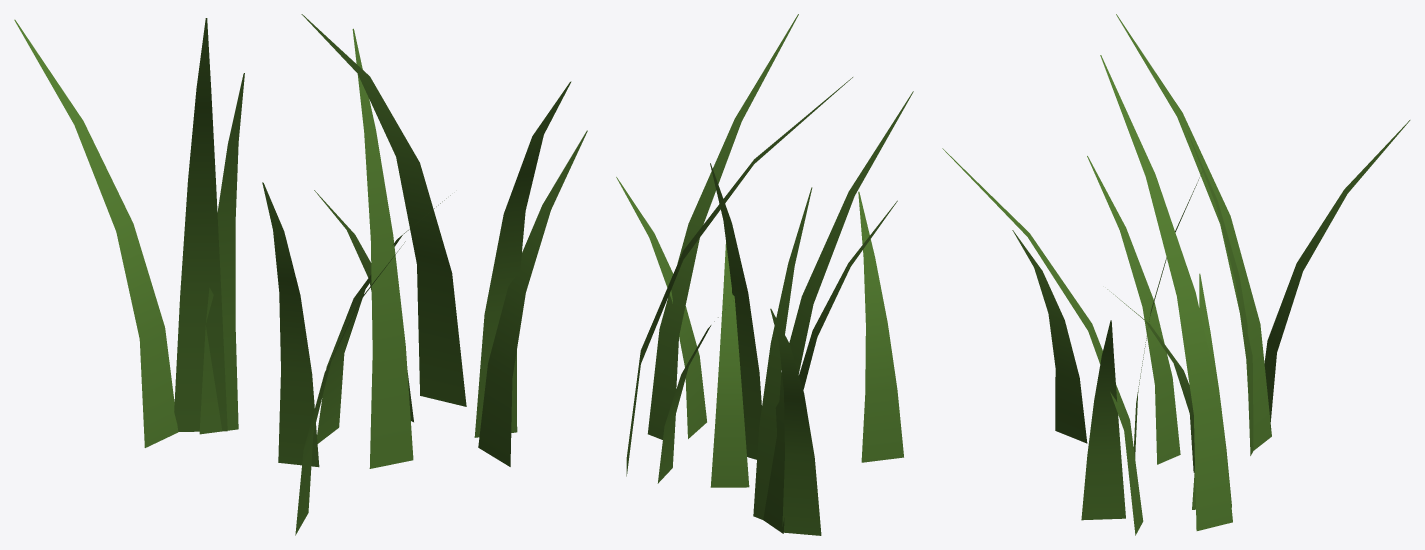
The model's file is grass_clump.glb.
The picture shows the model from 3 angles, left to right: view 1: azimuth 30°, elevation 25°; view 2: azimuth 150°, elevation 25°; view 3: azimuth 270°, elevation 25°; orthographic projection. The views are drawn at different scales.
Visible parts, largest first — view 1: grass_clump_M_Grass; view 2: grass_clump_M_Grass; view 3: grass_clump_M_Grass.
Part boxes in pixels (x1,y1,x2,y2): grass_clump_M_Grass: (14,14,587,535); grass_clump_M_Grass: (616,14,913,535); grass_clump_M_Grass: (942,14,1410,535).
Bounding box in the file's own units: 0.3205 × 0.4002 × 0.4275.
